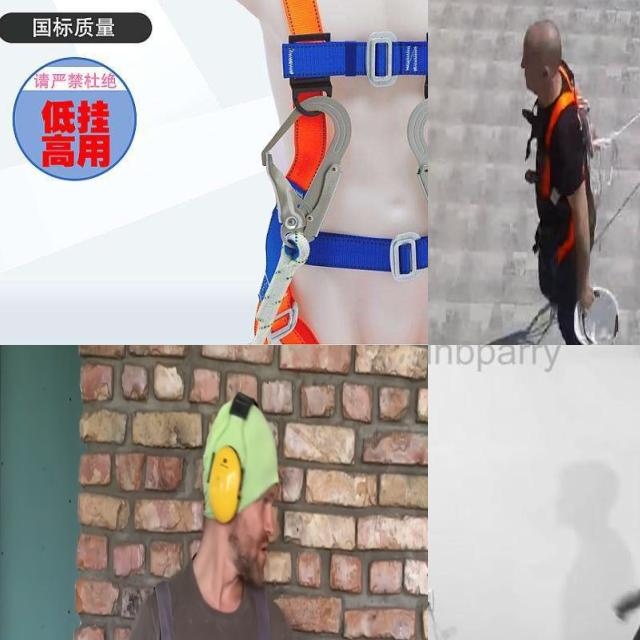Ear-protection: (200, 392, 282, 586)
Harness: (248, 0, 428, 330), (541, 64, 577, 196)
